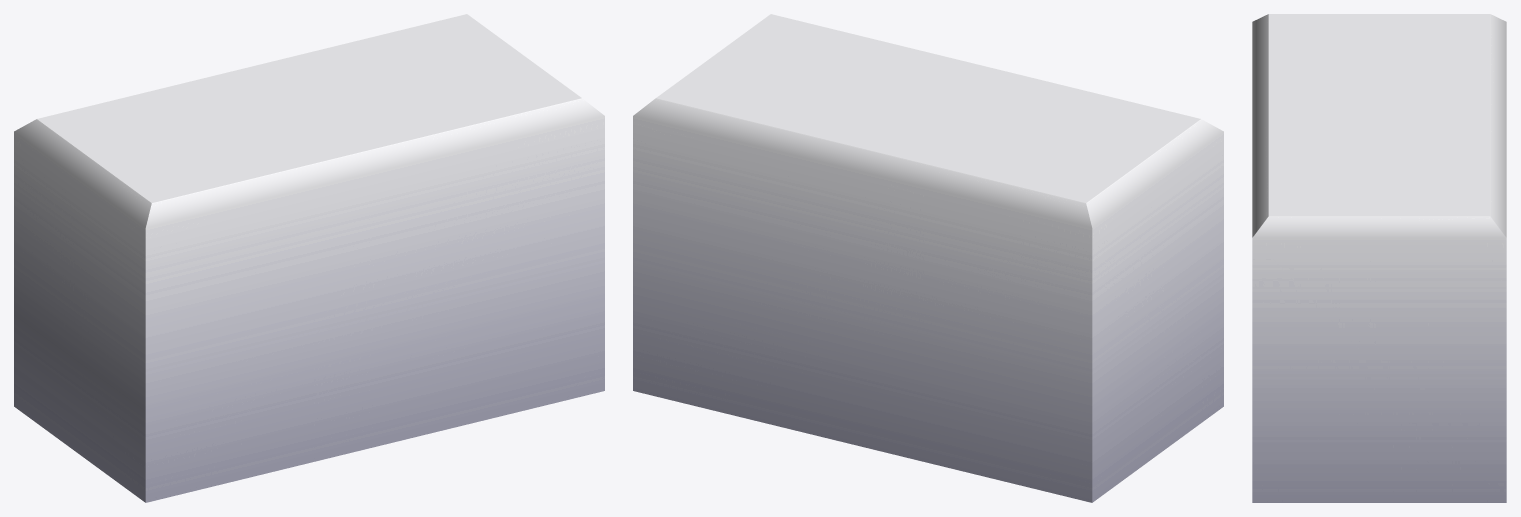
Rendered from brick-kit--none-hq-brick-1x2.glb.
The picture shows the model from 3 angles, left to right: view 1: azimuth 30°, elevation 25°; view 2: azimuth 150°, elevation 25°; view 3: azimuth 270°, elevation 25°; orthographic projection. The views are drawn at different scales.
Parts seen in each view (by area): view 1: none-hq-brick-1x2; view 2: none-hq-brick-1x2; view 3: none-hq-brick-1x2.
Boxes of the visible parts, box(x1,y1,x2,y2) form: none-hq-brick-1x2: box(14, 14, 604, 502); none-hq-brick-1x2: box(633, 14, 1223, 502); none-hq-brick-1x2: box(1252, 14, 1506, 502).
Bounding box in the file's own units: 0.159 × 0.096 × 0.079.
1 material, 1 textured.
